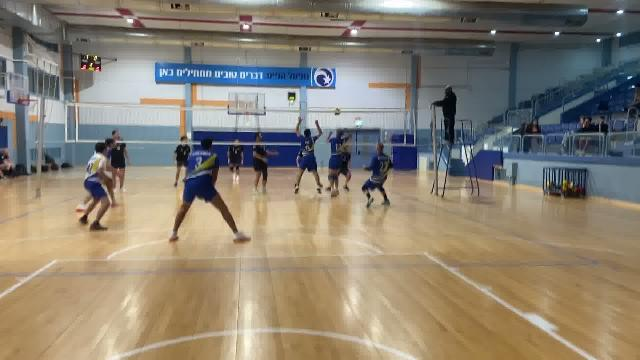ball: (332, 107, 342, 116)
